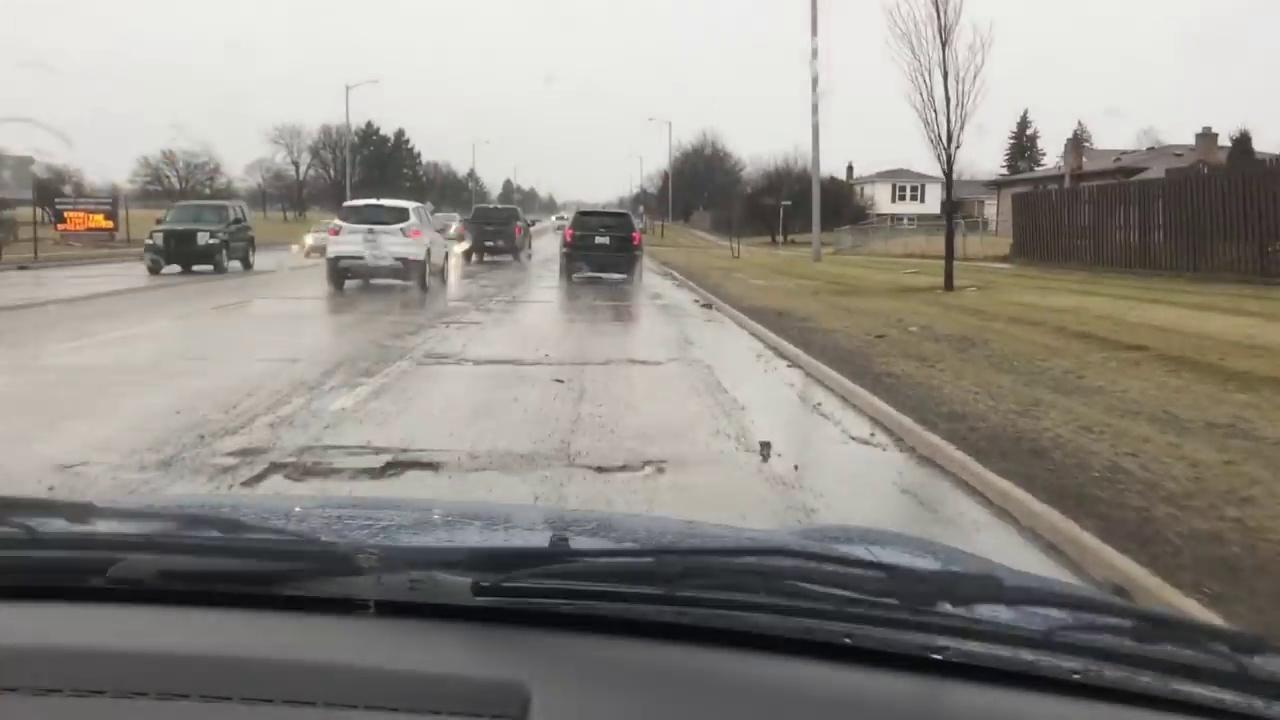pothole: (238, 453, 442, 495)
